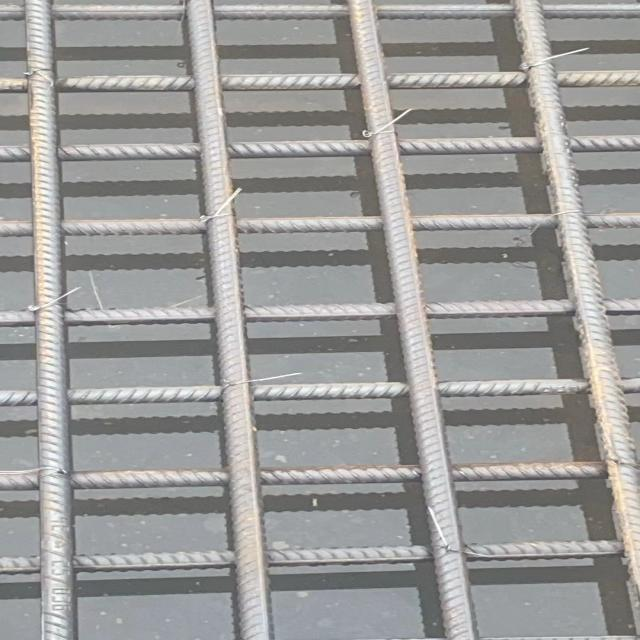ribbed bar: (347, 0, 477, 639), (510, 0, 638, 616), (184, 0, 274, 639), (27, 0, 76, 639), (0, 538, 622, 576), (0, 459, 606, 491), (0, 297, 639, 327), (0, 377, 639, 407), (0, 135, 639, 162), (0, 212, 639, 237), (0, 70, 639, 93), (0, 3, 639, 22)
